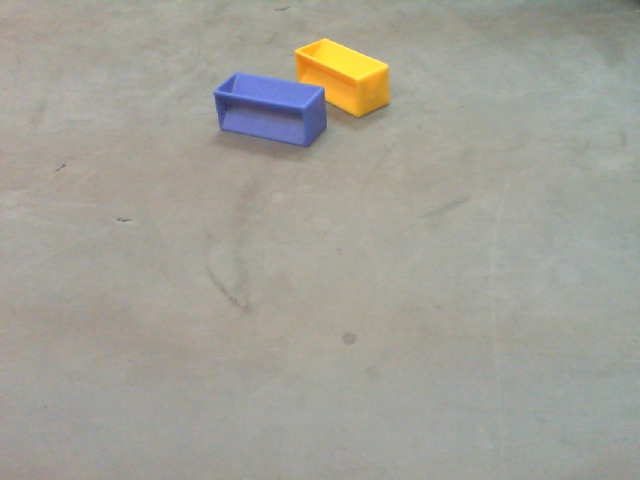BlueSample: (210, 71, 328, 158)
YellowSample: (294, 31, 393, 123)
